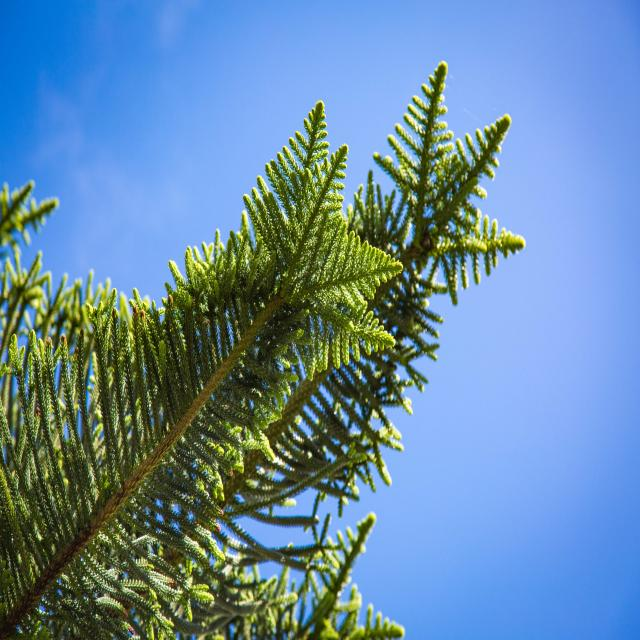Araucaria heterophylla: (4, 41, 640, 639)
